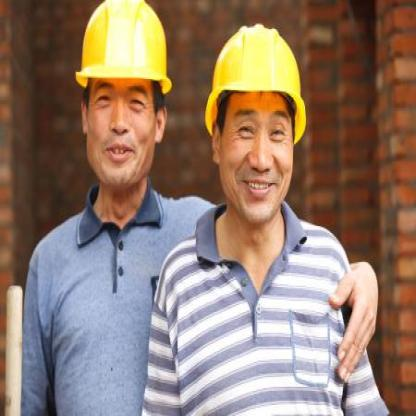helmet: (191, 13, 324, 230), (67, 3, 184, 204)
